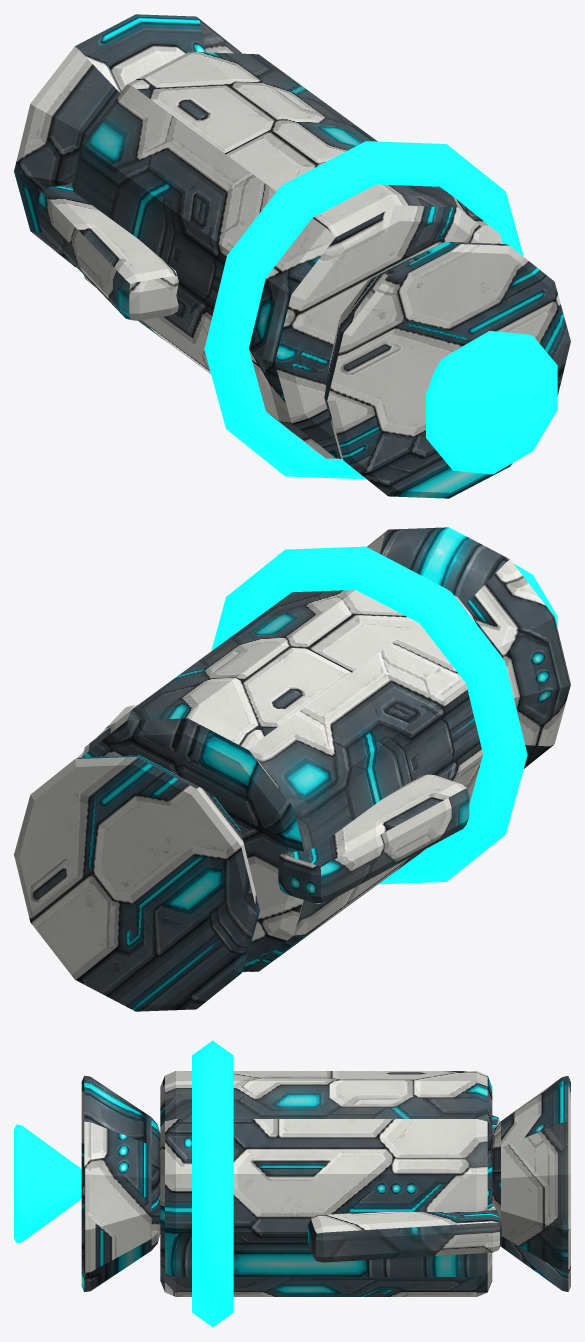
The model's file is SignalBoltModel.fbx.
3 views of the same model, one above another, from view 1: azimuth 30°, elevation 25°; view 2: azimuth 150°, elevation 25°; view 3: azimuth 270°, elevation 25° (orthographic). The views are drawn at different scales.
Visible parts, largest first — view 1: Bolt Shell, Bolt Energy; view 2: Bolt Shell, Bolt Energy; view 3: Bolt Shell, Bolt Energy.
Boxes of the visible parts, x1,y1,x2,y2 form: Bolt Shell: (14,14,570,498); Bolt Energy: (204,141,557,479); Bolt Shell: (14,527,570,1011); Bolt Energy: (211,546,557,884); Bolt Shell: (81,1071,570,1296); Bolt Energy: (14,1040,233,1327).
Bounding box in the file's own units: 0.3517 × 0.33 × 0.6375.
2 materials, 1 textured.
